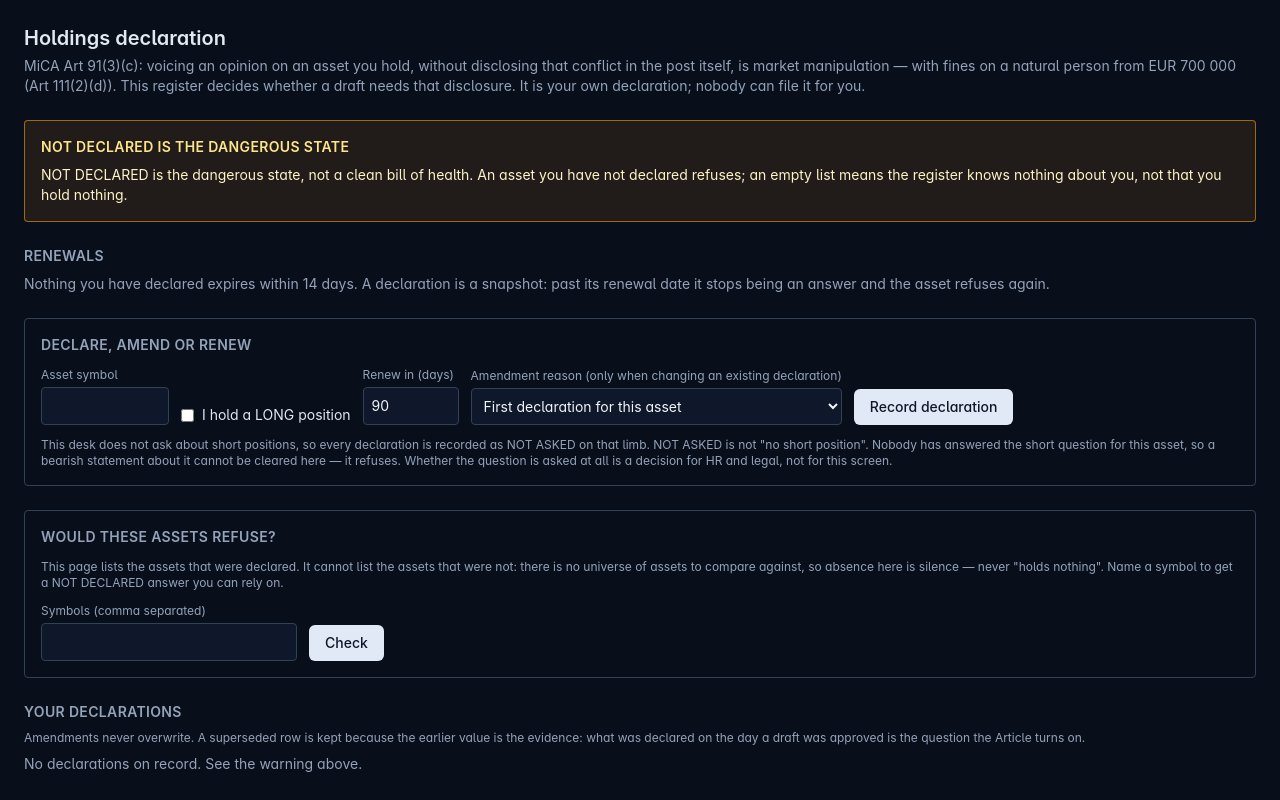
Scenario: a named symbol gets an answer you can act on › says a stale declaration is not an answer
Expected: the element with test id "holdings-check" is shown, [24,510,1256,678]
Type "SOL" into the field named "Symbols to check".
click(169, 642); type("SOL")  # box [41,623,297,661]
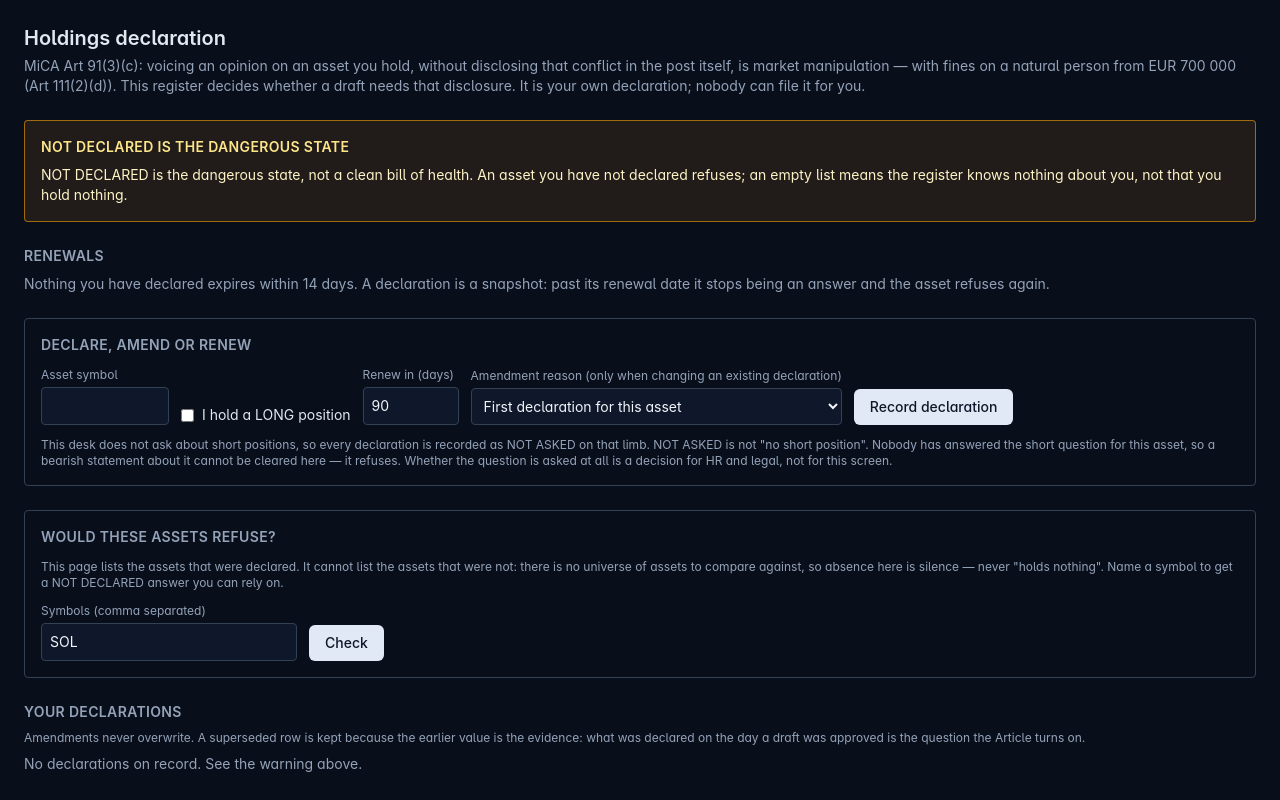
Click the button "Check".
click(346, 643)  # box [309,625,384,661]
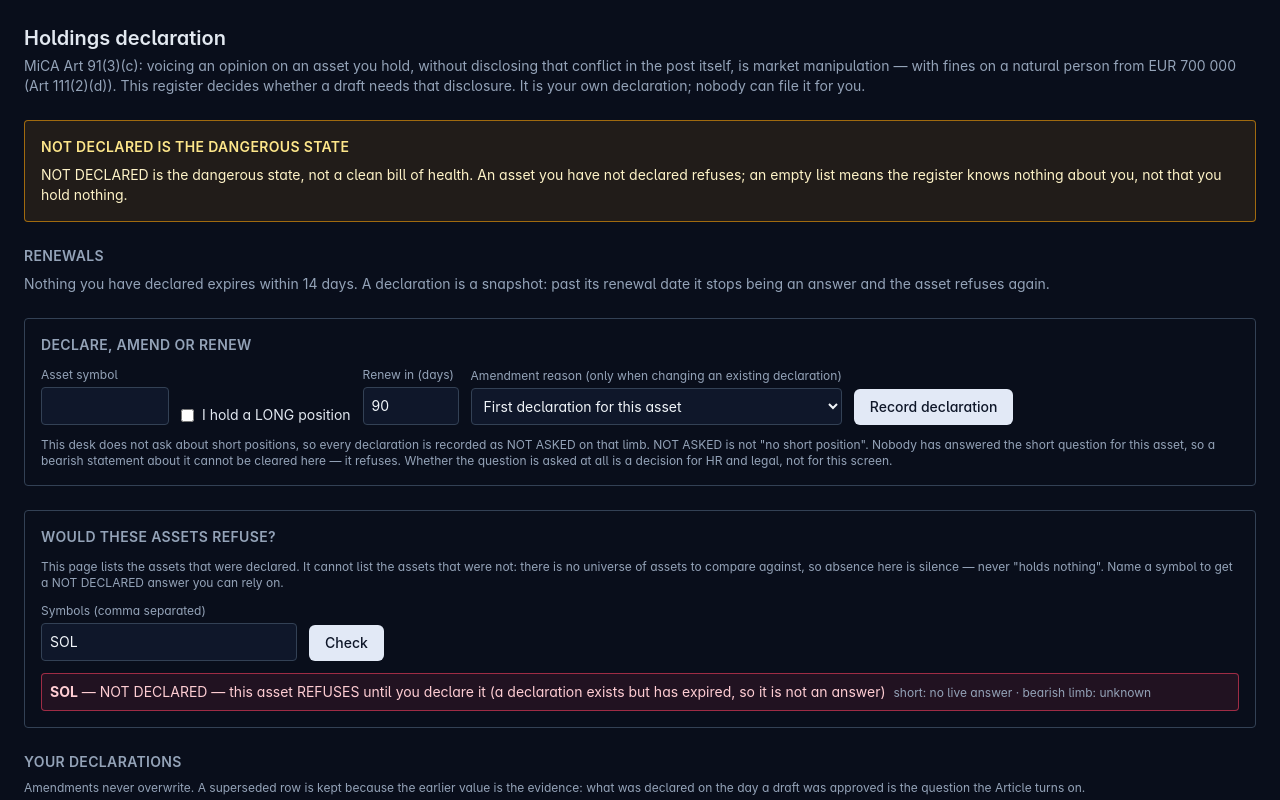
Result: the list with test id "holdings-cells" is shown at [41,673,1239,711]
Result: the list with test id "holdings-cells" shows "a declaration exists but has expired, so it is not an answer" at [486,683,886,700]
